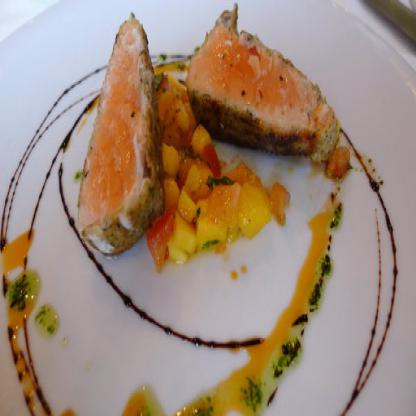salmon: (185, 6, 335, 162), (80, 20, 162, 257)
